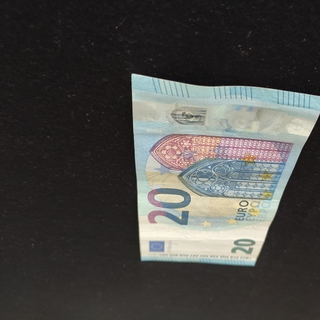20EUROFront: (129, 72, 320, 267)
